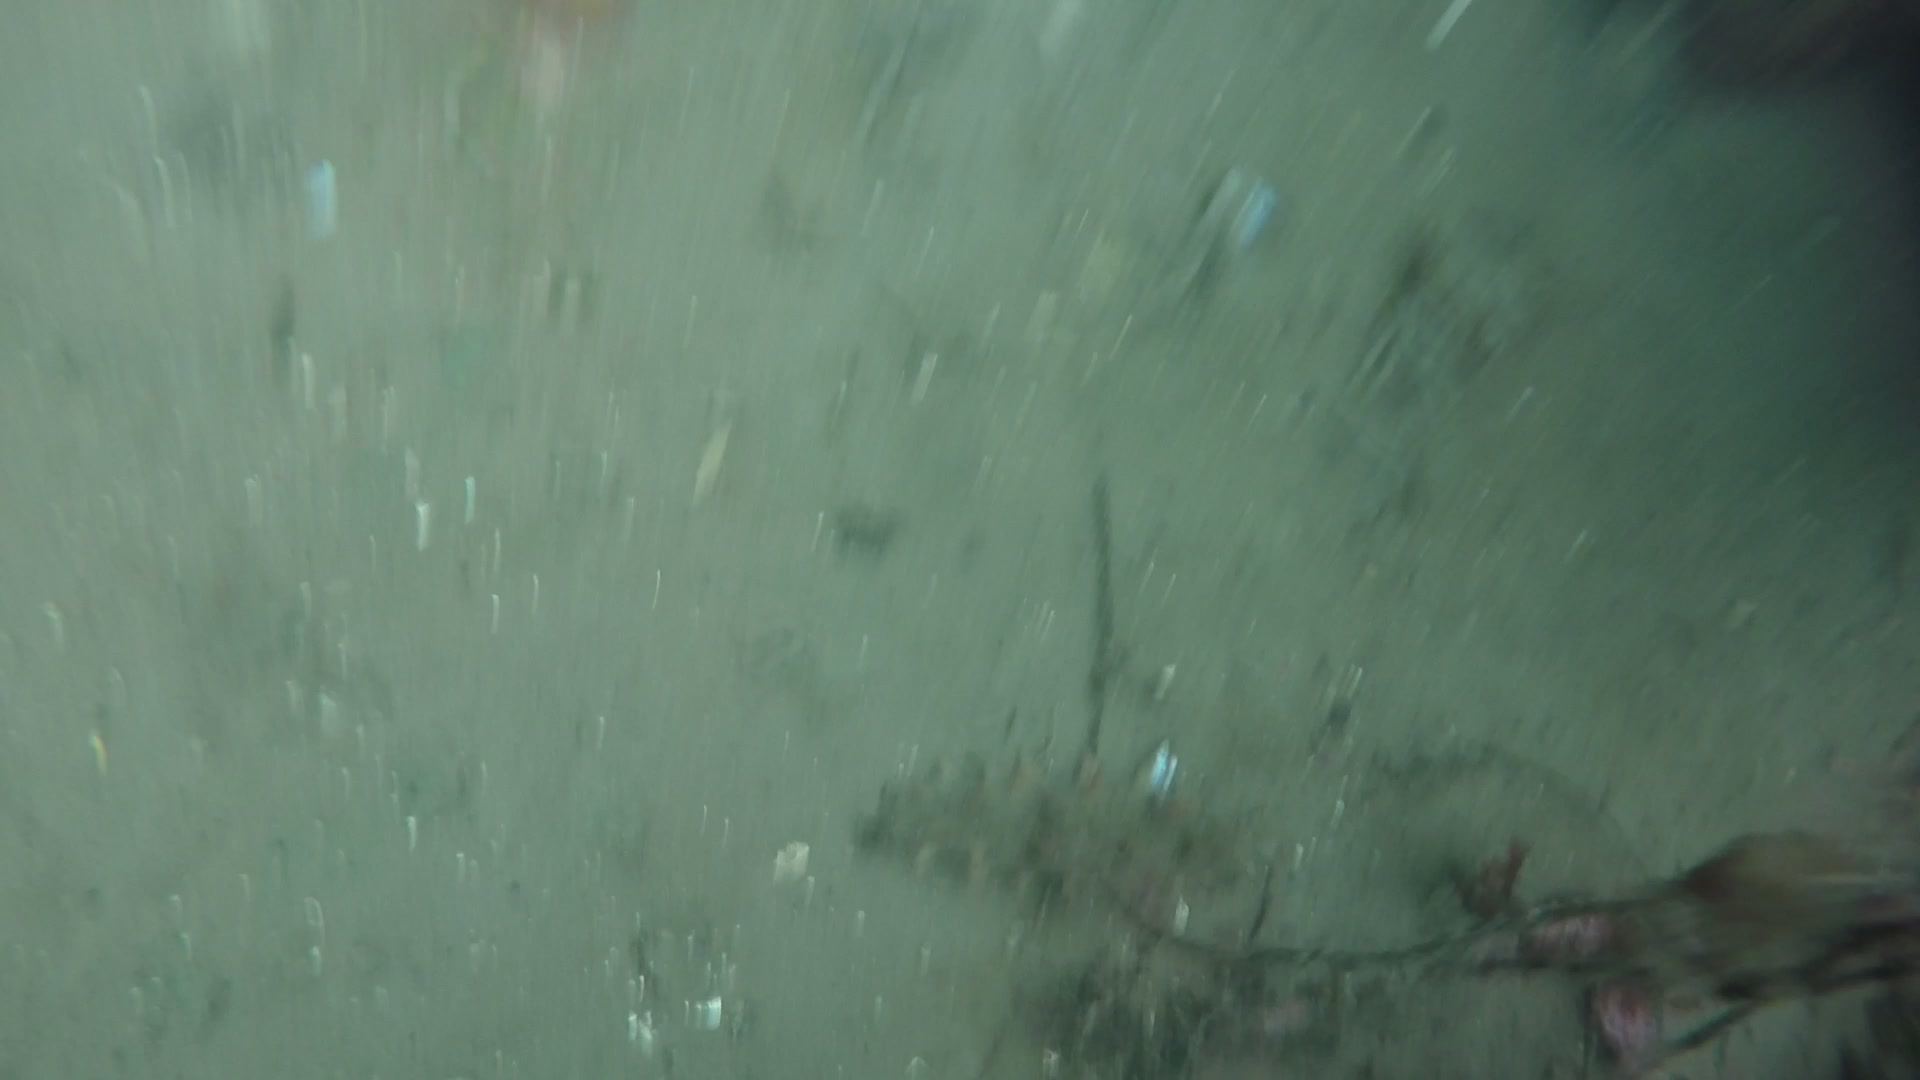holothurian: (855, 758, 1250, 924)
